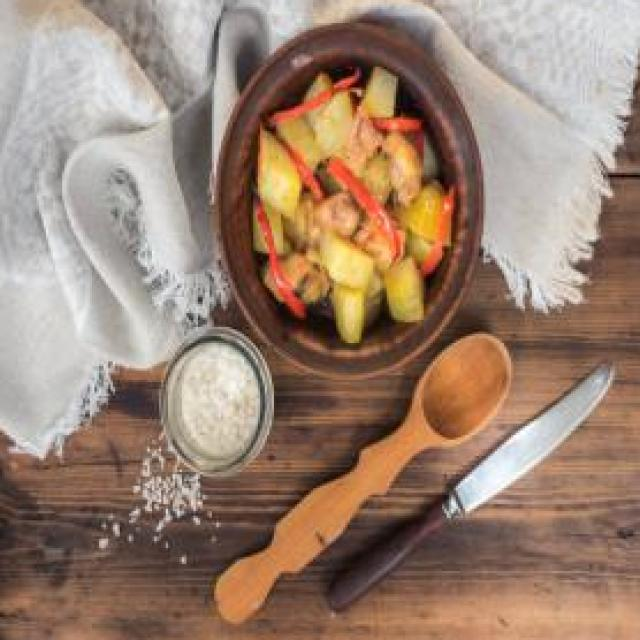knife: (327, 359, 618, 615)
